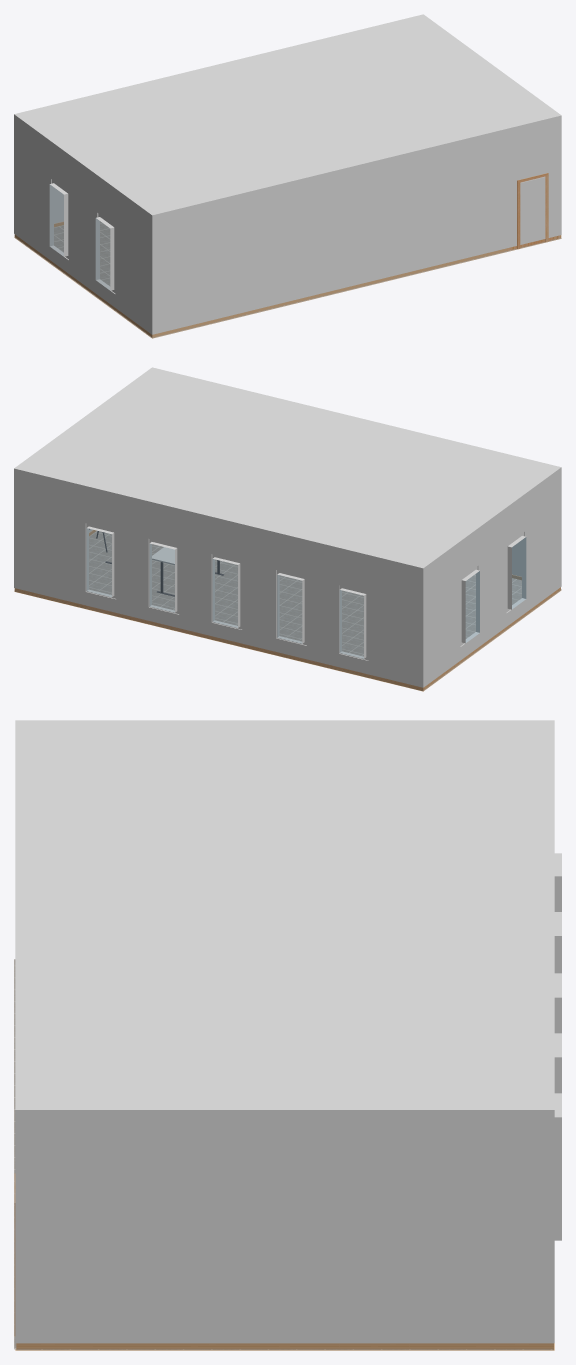
File: lab_nobanchi.glb
The picture shows the model from 3 angles, top to bottom: view 1: azimuth 30°, elevation 25°; view 2: azimuth 150°, elevation 25°; view 3: azimuth 270°, elevation 25°; orthographic projection. The views are drawn at different scales.
Visible parts, largest first — view 1: Soffitto, Porta, Pareti, Pavimento; view 2: Soffitto, Pareti, Pavimento, Porta; view 3: Soffitto, Porta, Pavimento.
Boxes of the visible parts, x1,y1,x2,y2 form: Soffitto: (14,14,561,334); Porta: (14,173,561,338); Pareti: (50,185,109,289); Pavimento: (14,221,561,338); Soffitto: (14,367,561,687); Pareti: (87,528,525,658); Pavimento: (89,530,561,690); Porta: (14,530,561,691); Soffitto: (15,720,561,1343); Porta: (14,1173,554,1350); Pavimento: (14,959,552,1349).
Bounding box in the file's own units: 20.64 × 5.89 × 12.16.
8 materials, 8 textured.
